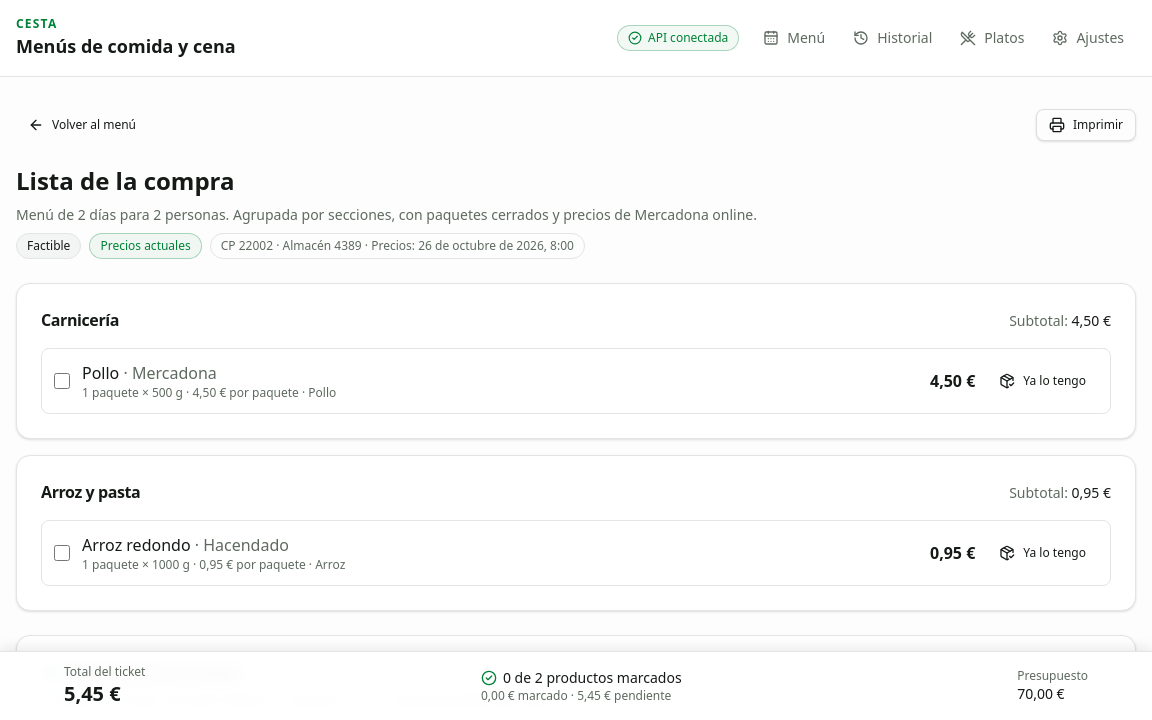
Test case: ShoppingListPage › marca y desmarca una línea y actualiza lo marcado
The width and height of the screenshot is (1152, 720).
Click the checkbox named "Marcar Pollo como comprado": (62, 381) [54,373,70,389]
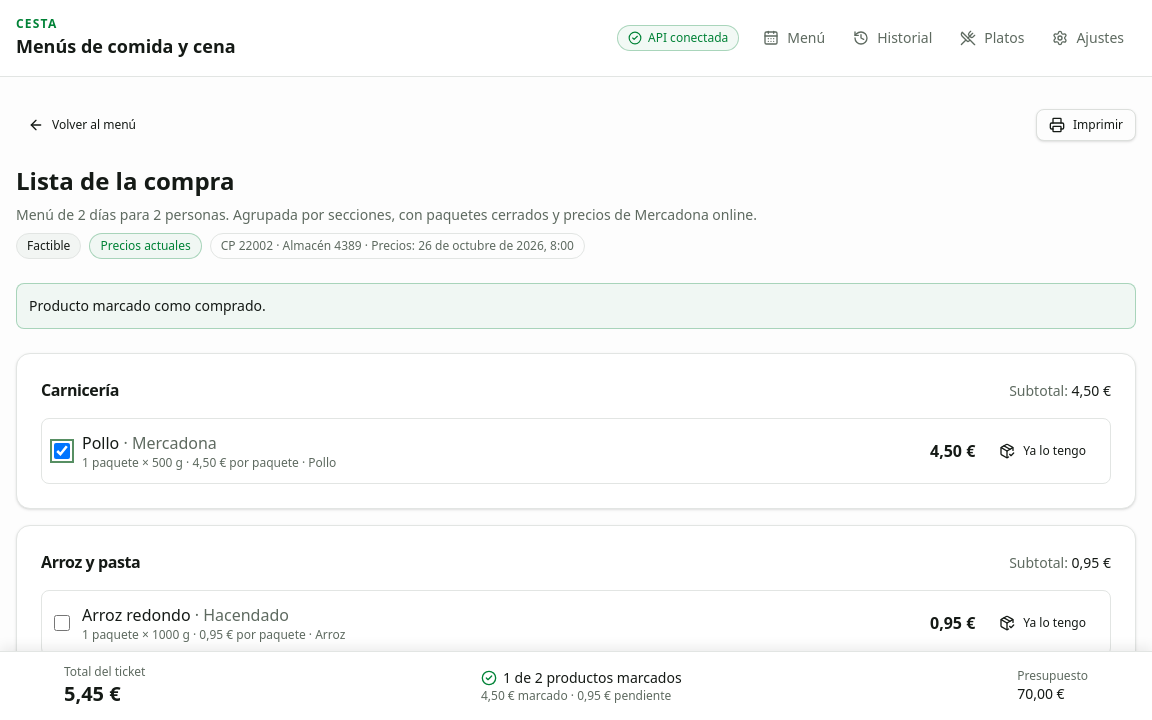
Expected: the text "Producto marcado como comprado." is shown, [16,283,1136,329]
Expected: the element named "Resumen fijo de la compra" shows "1 de 2 productos marcados", [0,651,1151,719]
Expected: the element named "Resumen fijo de la compra" shows "4,50", [481,687,515,704]
Click the checkbox named "Marcar Pollo como comprado": (62, 451) [54,443,70,459]
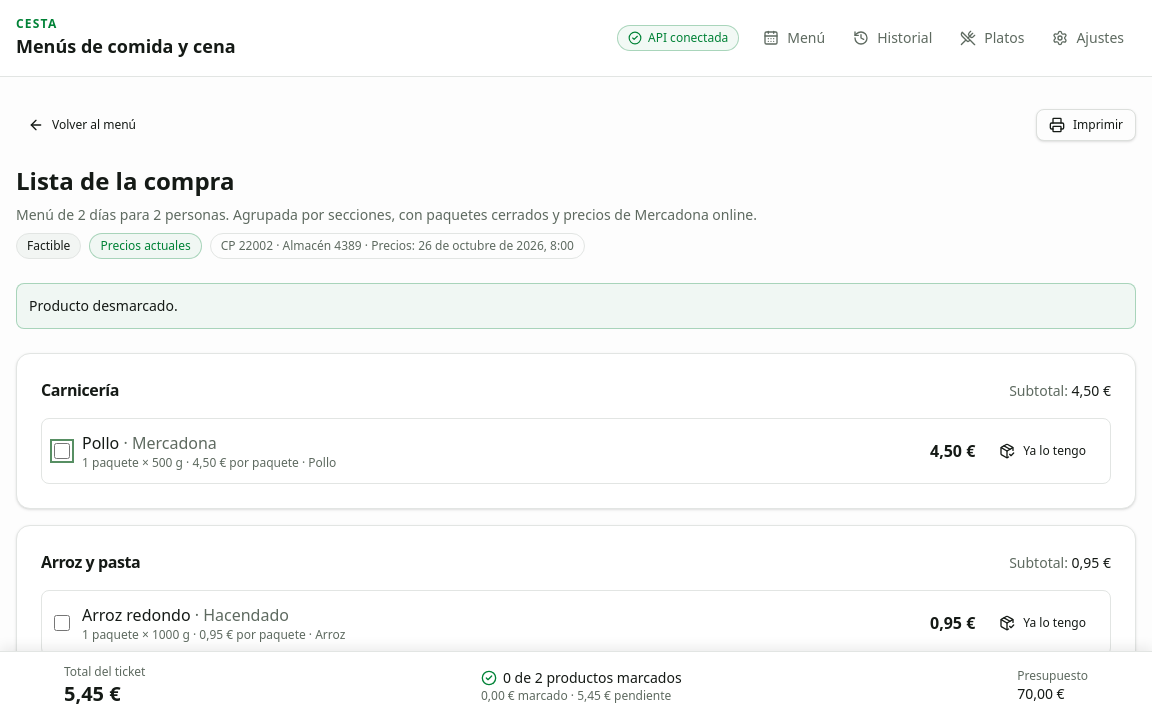
Expected: the text "Producto desmarcado." is shown, [16,283,1136,329]
Expected: the element named "Resumen fijo de la compra" shows "0 de 2 productos marcados", [0,651,1151,719]
